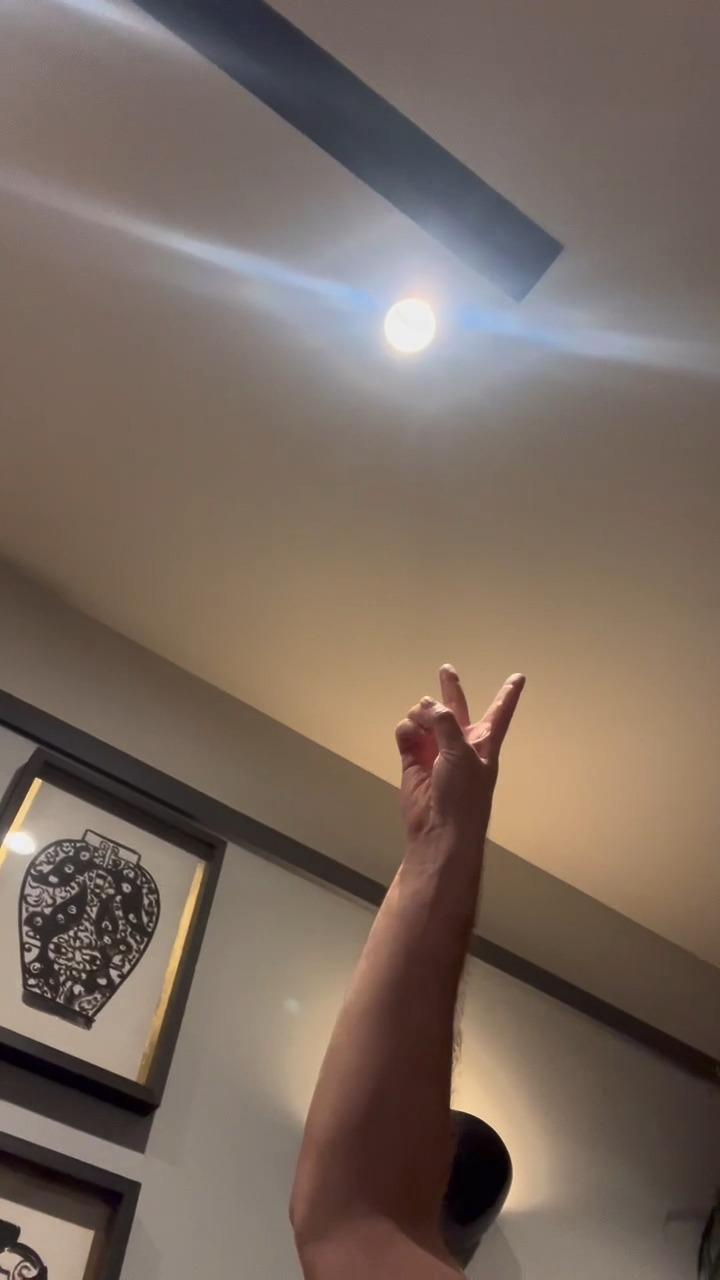Scissors: (392, 662, 529, 827)
